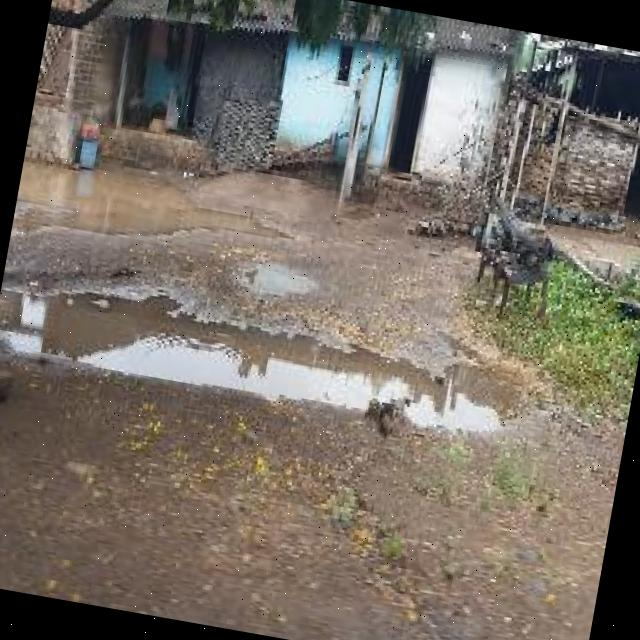waterlogging: (0, 247, 564, 473)
